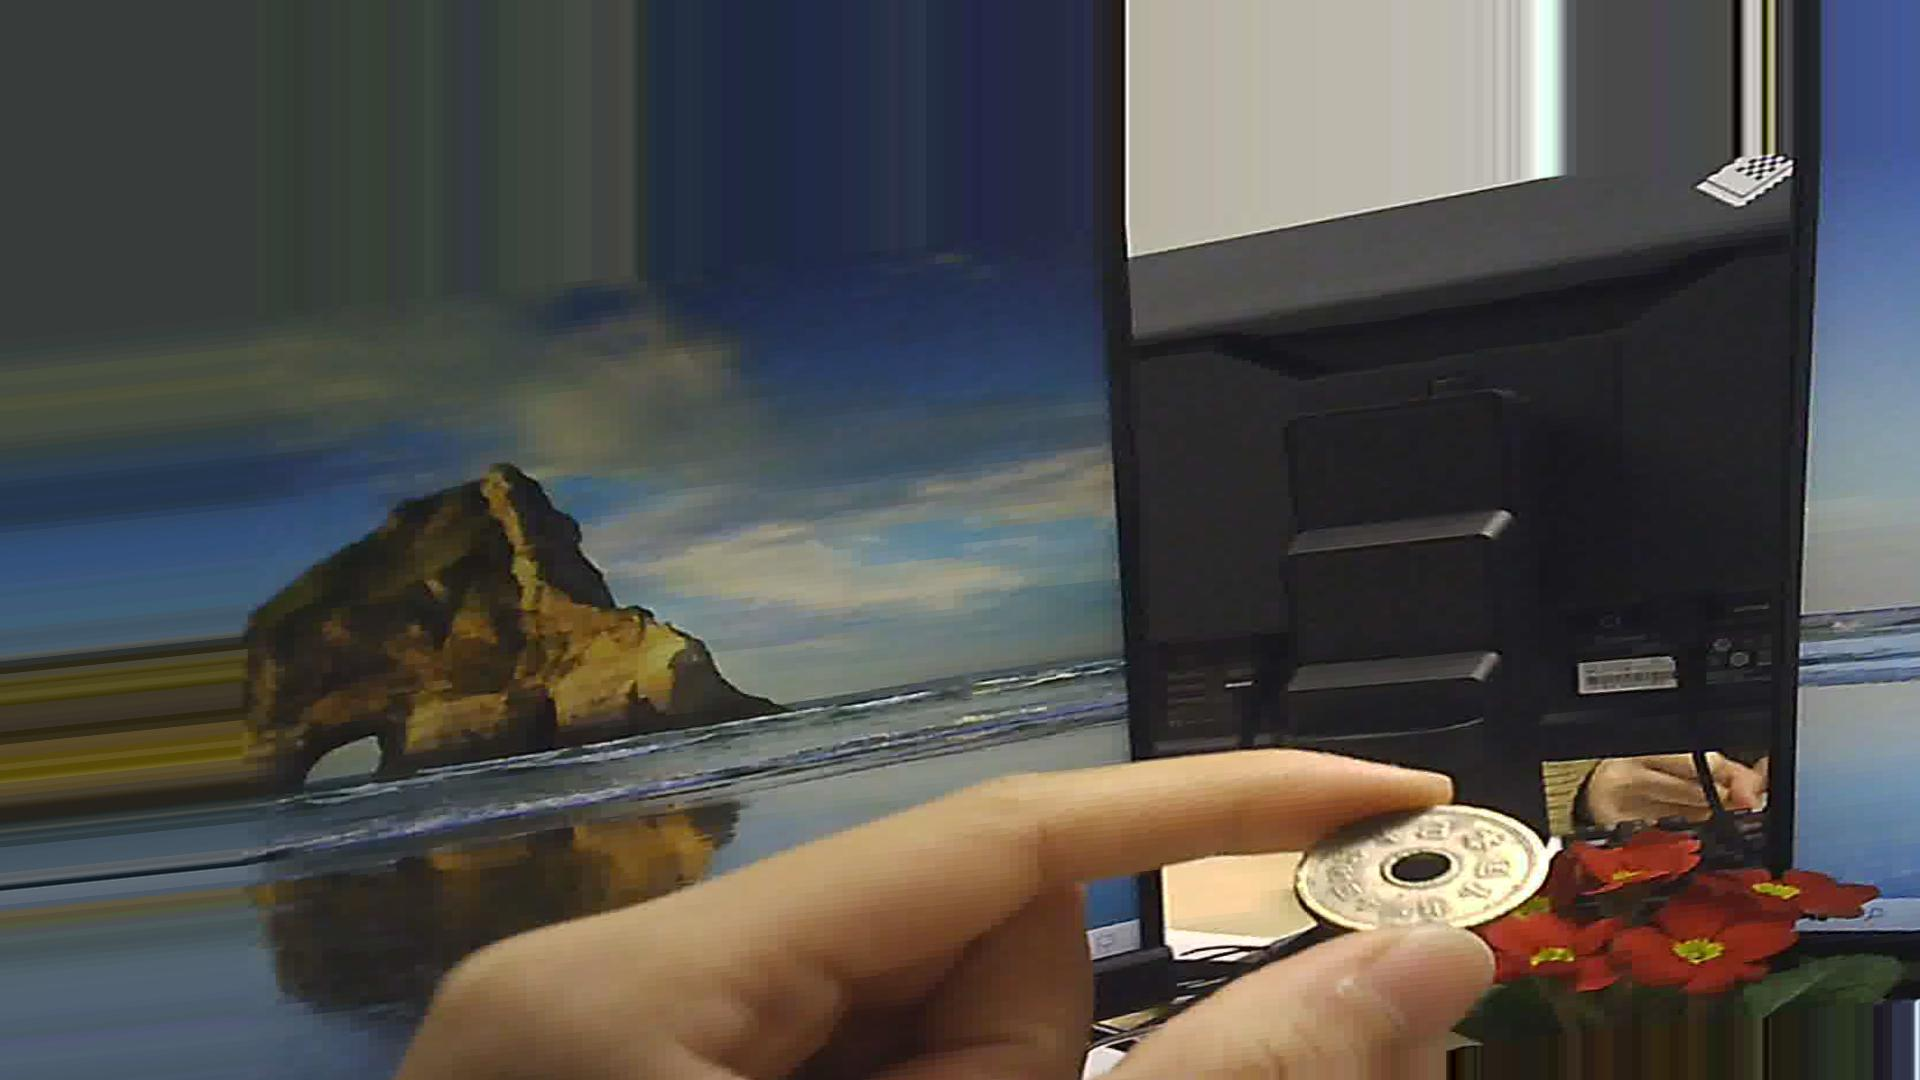5 Yen: (1284, 790, 1557, 947)
